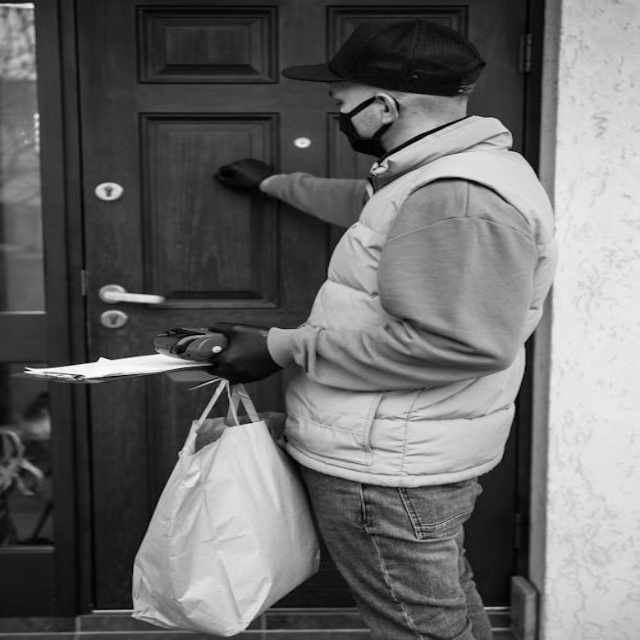Guantes: (161, 321, 284, 384), (214, 158, 274, 195)
Mascara: (335, 97, 392, 158)
Sin_gafas: (324, 85, 370, 109)
